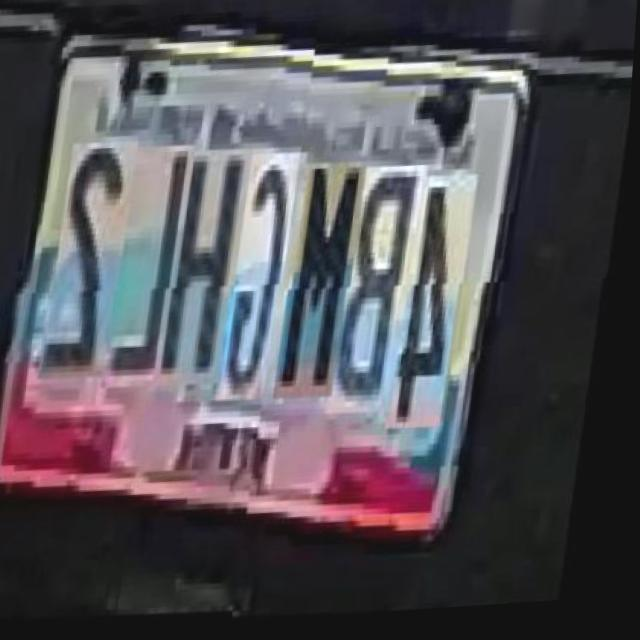2: (48, 151, 139, 390)
4: (398, 181, 481, 436)
b: (339, 170, 431, 422)
g: (226, 163, 302, 412)
h: (164, 159, 255, 398)
l: (112, 155, 197, 400)
m: (285, 167, 370, 405)
